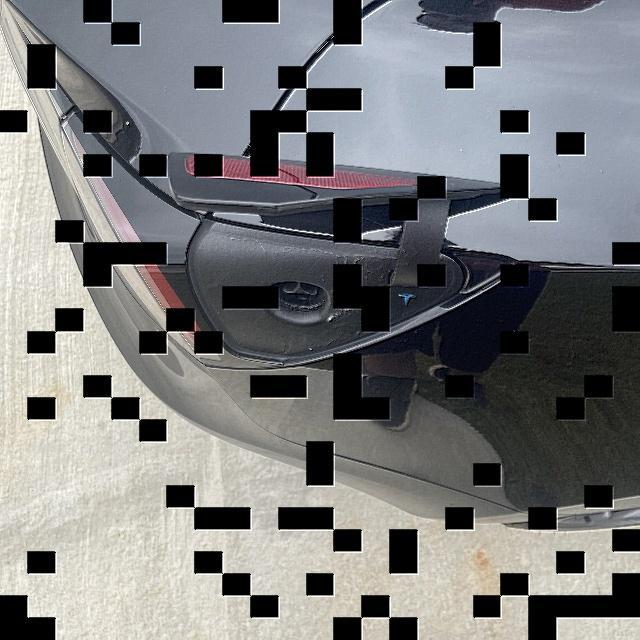Tesla Model-S-: (257, 267, 339, 352)
